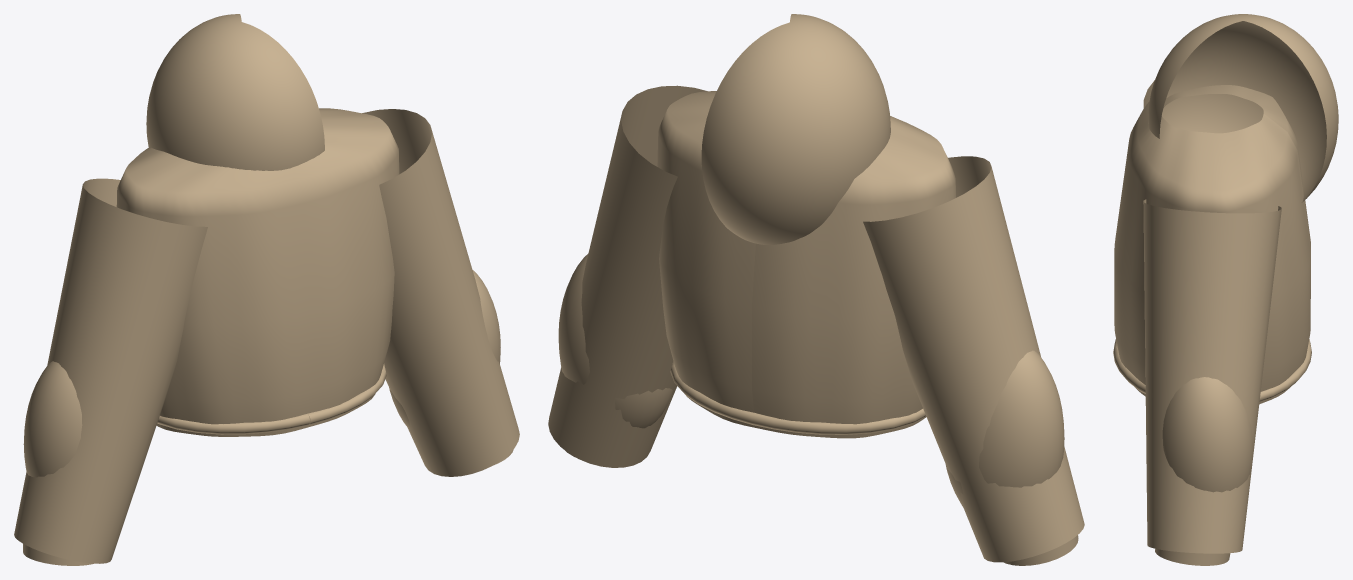
The model's file is hoodie-dune-femme.glb.
3 renders of one model, left to right at view 1: azimuth 30°, elevation 25°; view 2: azimuth 150°, elevation 25°; view 3: azimuth 270°, elevation 25°, orthographic. The views are drawn at different scales.
Parts seen in each view (by area): view 1: hoodie-sable, long-sleeve (×2); view 2: hoodie-sable, long-sleeve (×2); view 3: hoodie-sable, long-sleeve.
Part boxes in pixels (x1,y1,x2,y2): hoodie-sable: [23, 14, 513, 565]; long-sleeve (×2): [14, 109, 519, 563]; hoodie-sable: [558, 14, 1078, 565]; long-sleeve (×2): [548, 85, 1084, 562]; hoodie-sable: [1113, 14, 1338, 565]; long-sleeve: [1143, 199, 1281, 553].
Size of the model in its own units: 0.788 by 0.7225 by 0.3307.
